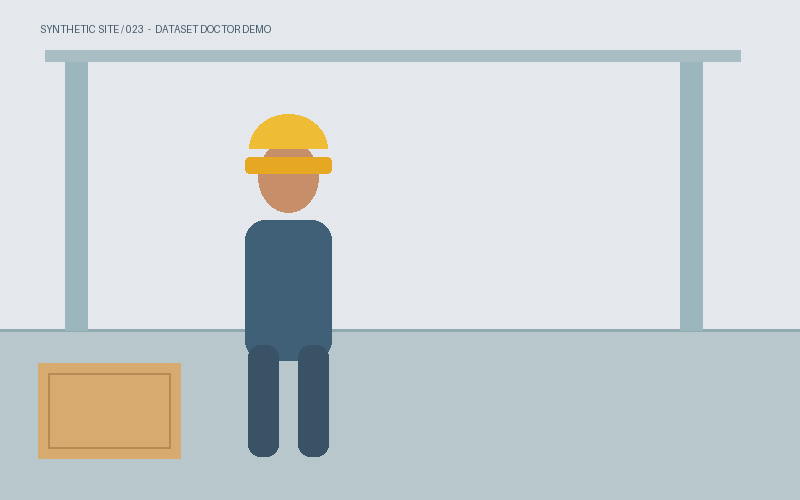Safety-Helmet: (245, 127, 331, 173)
